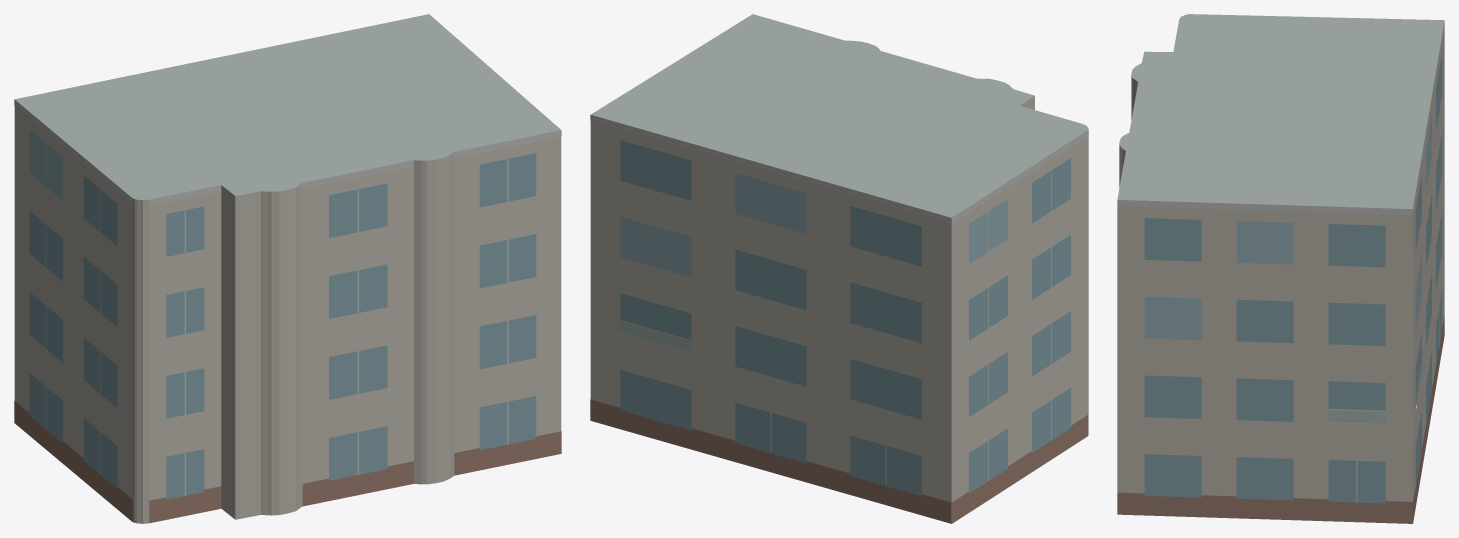
Rendered from survey-upis-32996572.glb.
3 views of the same model, side by side, from view 1: azimuth 30°, elevation 25°; view 2: azimuth 150°, elevation 25°; view 3: azimuth 270°, elevation 25° (orthographic). The views are drawn at different scales.
Parts seen in each view (by area): view 1: survey-upis-32996572.tmp; view 2: survey-upis-32996572.tmp; view 3: survey-upis-32996572.tmp.
Part boxes in pixels (x1=…): survey-upis-32996572.tmp: x1=14, y1=14, x2=561, y2=523; survey-upis-32996572.tmp: x1=590, y1=14, x2=1088, y2=523; survey-upis-32996572.tmp: x1=1117, y1=14, x2=1444, y2=523.
Bounding box in the file's own units: 16.37 × 12.3 × 11.6.
